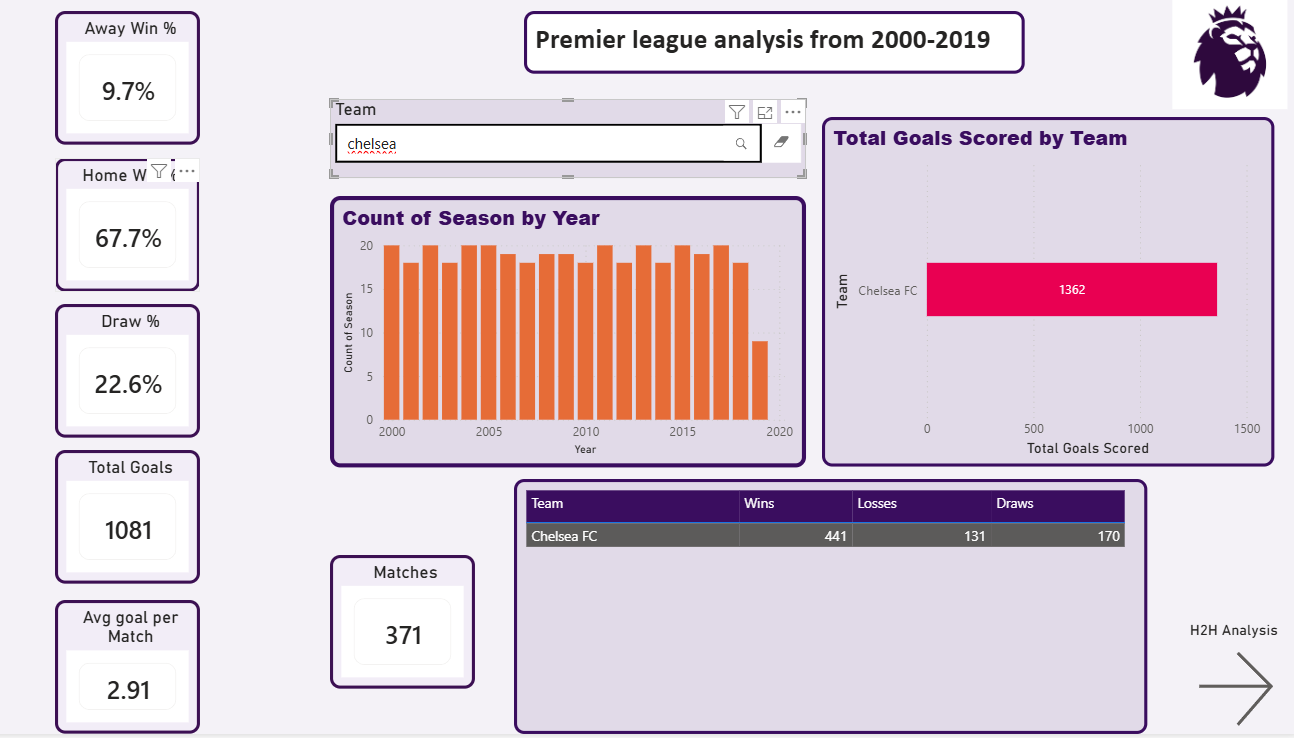

Layout of this report page (visuals, bound fields, positions):
{"tool":"powerbi","page":{"name":"Dashboard","canvas":[1280,720],"ordinal":0},"visuals":[{"type":"clusteredColumnChart","fields":{"Category":["football_results.date.Variation.Date Hierarchy.Year"],"Y":["CountNonNull(football_results.Season)"]},"box":[337.5,196.5,463,263.6],"z":0},{"type":"barChart","fields":{"Y":["Sum(Total_Goals.Goals)"],"Category":["Teams.Team"]},"box":[816,119.6,439.6,340.4],"z":1000},{"type":"tableEx","fields":{"Values":["Teams.Team","Total_Results.Wins","Total_Results.Losses","Total_Results.Draws"]},"box":[516.5,471.7,615.7,248],"z":2000},{"type":"image","box":[1144.8,0,135.2,111.9],"z":3000},{"type":"textFilter25A4896A83E0487089E2B90C9AE57C8A","fields":{"field":["Teams.Team"]},"box":[337.5,102.1,463,76.8],"z":4000},{"type":"textbox","box":[526.2,16.5,487.3,61.3],"z":5000},{"type":"actionButton","title":"H2H Analysis","box":[1174,610.8,88.5,108.9],"z":6000},{"type":"cardVisual","title":"Matches","fields":{"Data":["football_results.Total Matches"]},"box":[337.5,545.7,141,130.3],"z":7000},{"type":"cardVisual","title":"Total Goals","fields":{"Data":["football_results.Total Goal"]},"box":[70,443.5,141,130.3],"z":8000},{"type":"cardVisual","title":"Home Win %","fields":{"Data":["football_results.Home Win %"]},"box":[70,159.5,141,130.3],"z":9000},{"type":"cardVisual","title":"Avg goal per Match","fields":{"Data":["football_results.Avg Goals per Match"]},"box":[70,589.4,141,130.3],"z":10000},{"type":"cardVisual","title":"Draw %","fields":{"Data":["football_results.Draw %"]},"box":[70,301.5,141,130.3],"z":11000},{"type":"cardVisual","title":"Away Win %","fields":{"Data":["football_results.Away Win %"]},"box":[70,16.5,141,130.3],"z":12000}]}

Visuals, with their boxes in screenshot pixels (x1, y1, x2, y2), scaled from the page's 1280x720 canvas onto the 1294x738 screenshot:
clusteredColumnChart - football_results.date.Variation.Date Hierarchy.Year x CountNonNull(football_results.Season): [left=341, top=201, right=809, bottom=472]
barChart - Sum(Total_Goals.Goals) x Teams.Team: [left=825, top=123, right=1269, bottom=471]
tableEx - Teams.Team x Total_Results.Wins: [left=522, top=483, right=1145, bottom=737]
image: [left=1157, top=0, right=1293, bottom=115]
textFilter25A4896A83E0487089E2B90C9AE57C8A - Teams.Team: [left=341, top=105, right=809, bottom=183]
textbox: [left=532, top=17, right=1025, bottom=80]
"H2H Analysis" actionButton: [left=1187, top=626, right=1276, bottom=737]
"Matches" cardVisual: [left=341, top=559, right=484, bottom=693]
"Total Goals" cardVisual: [left=71, top=455, right=213, bottom=588]
"Home Win %" cardVisual: [left=71, top=163, right=213, bottom=297]
"Avg goal per Match" cardVisual: [left=71, top=604, right=213, bottom=737]
"Draw %" cardVisual: [left=71, top=309, right=213, bottom=443]
"Away Win %" cardVisual: [left=71, top=17, right=213, bottom=150]
